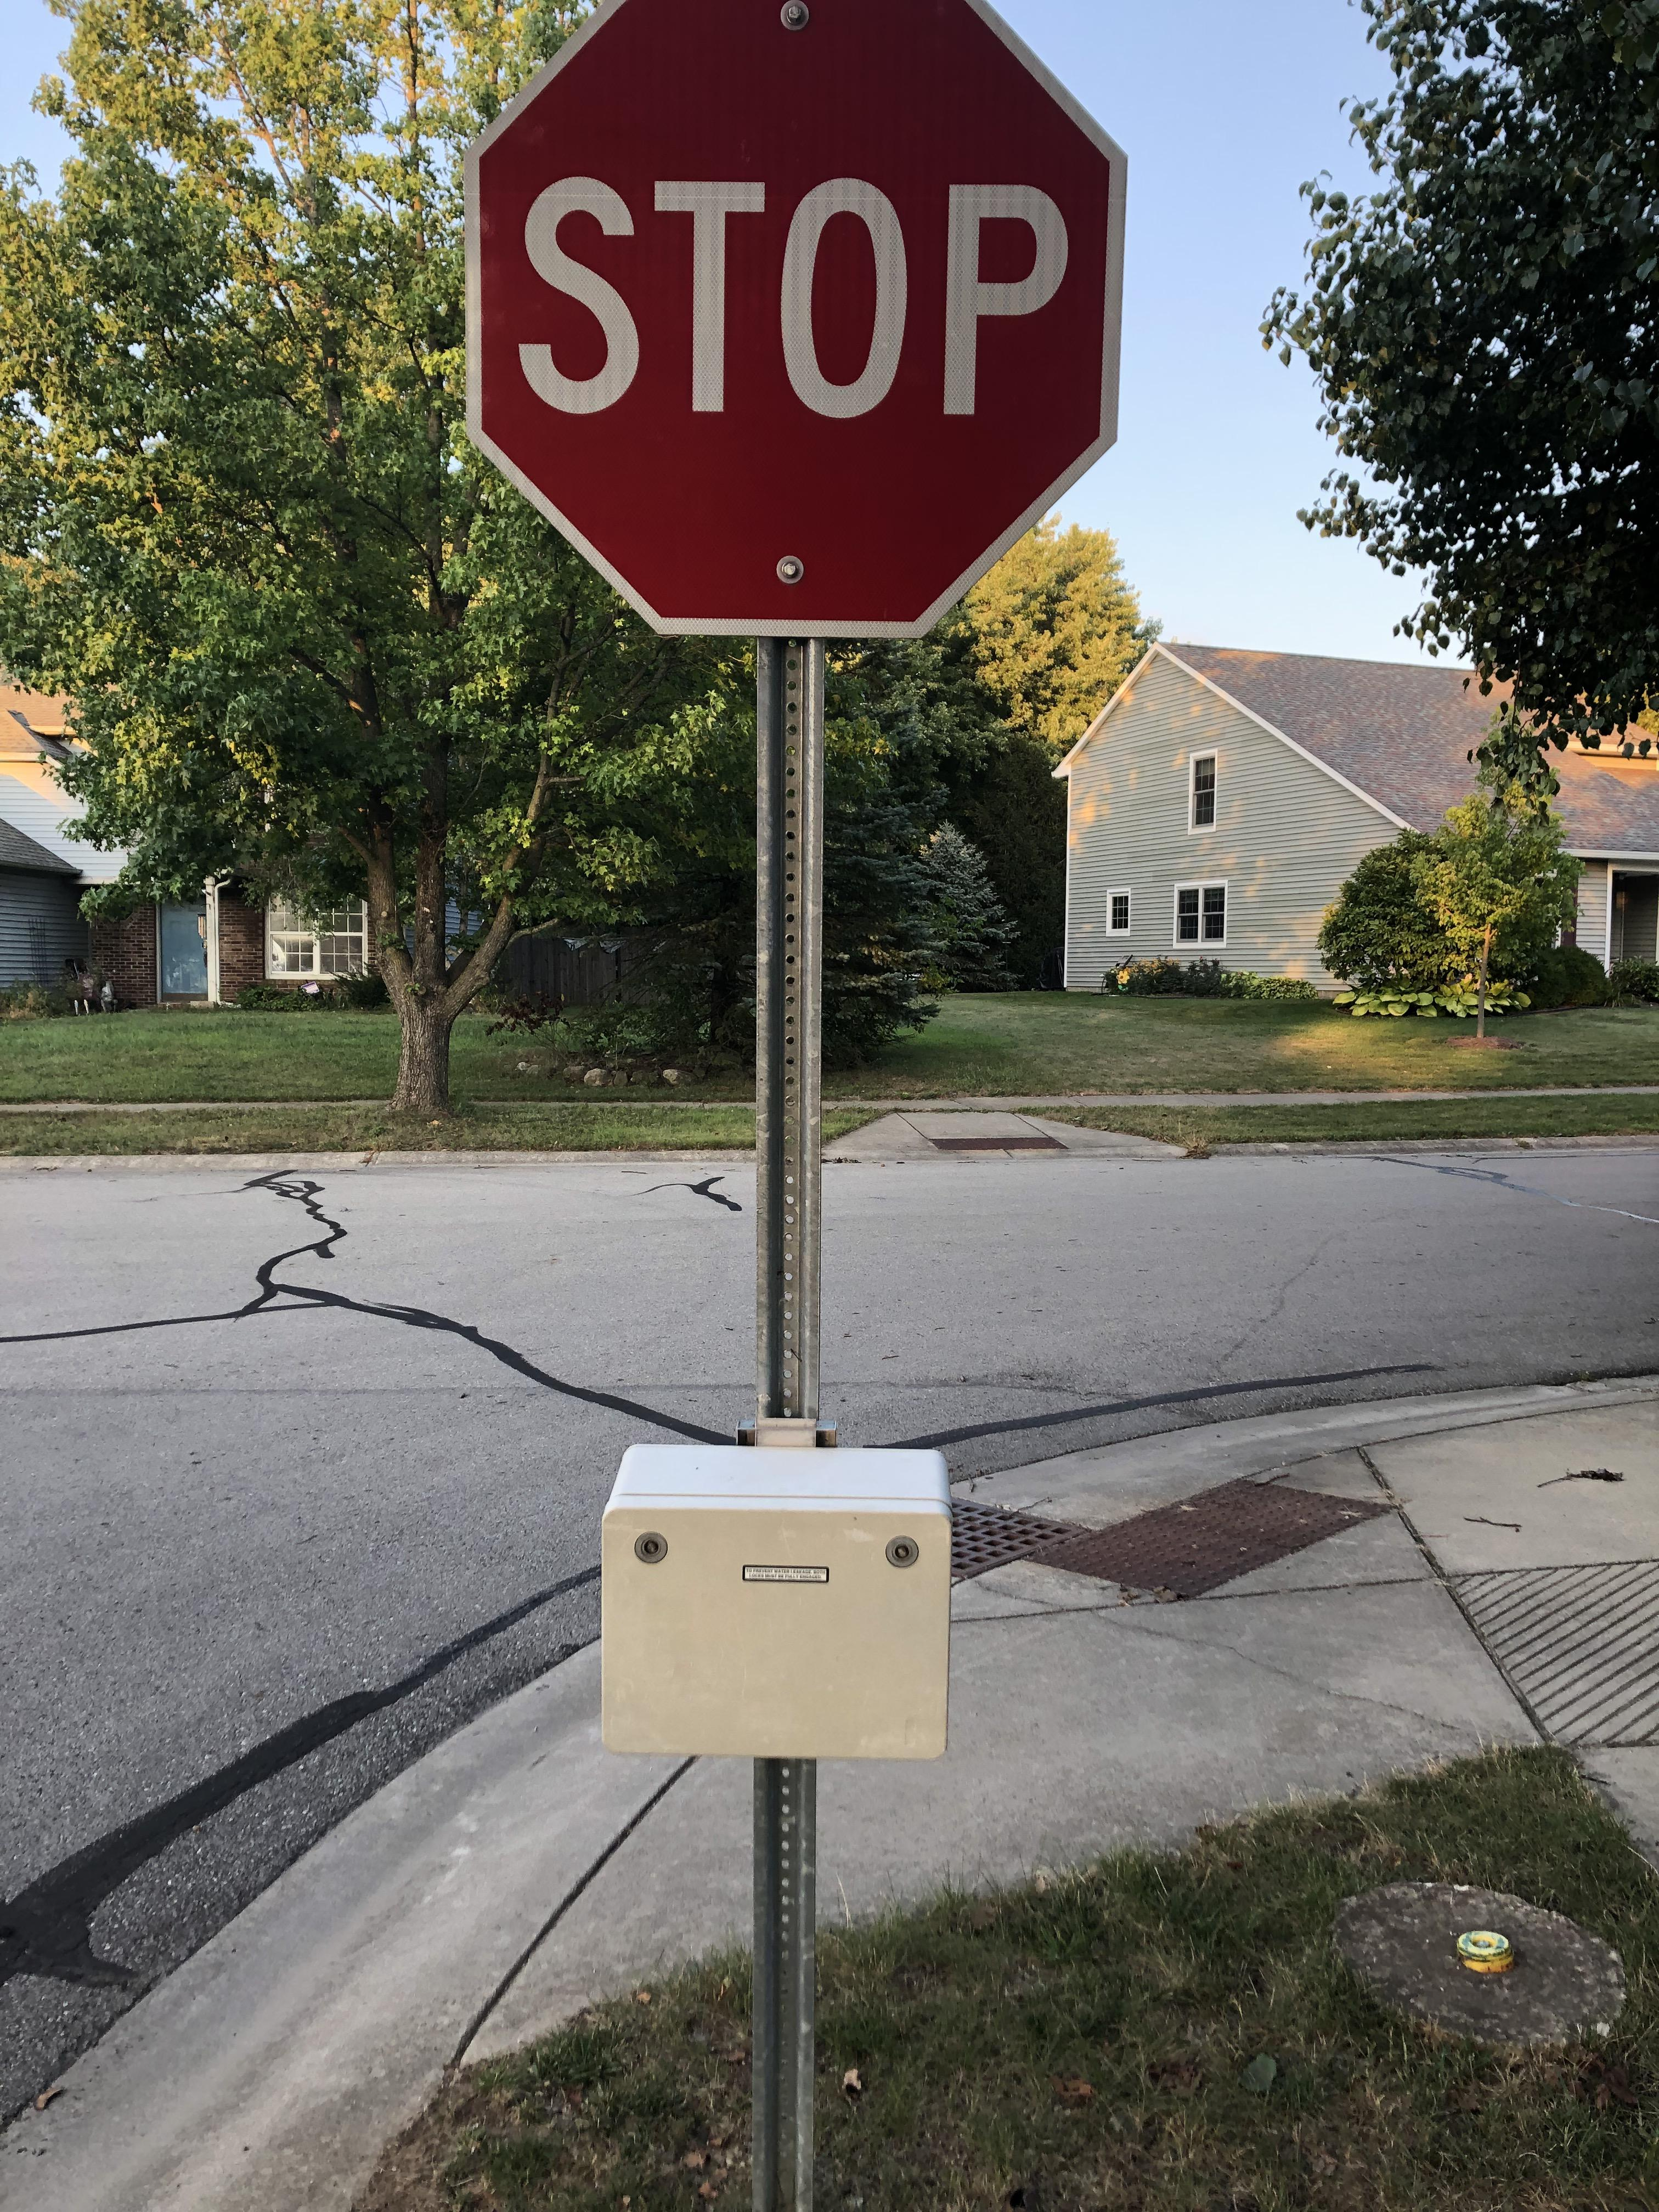stop: (471, 0, 1141, 637)
